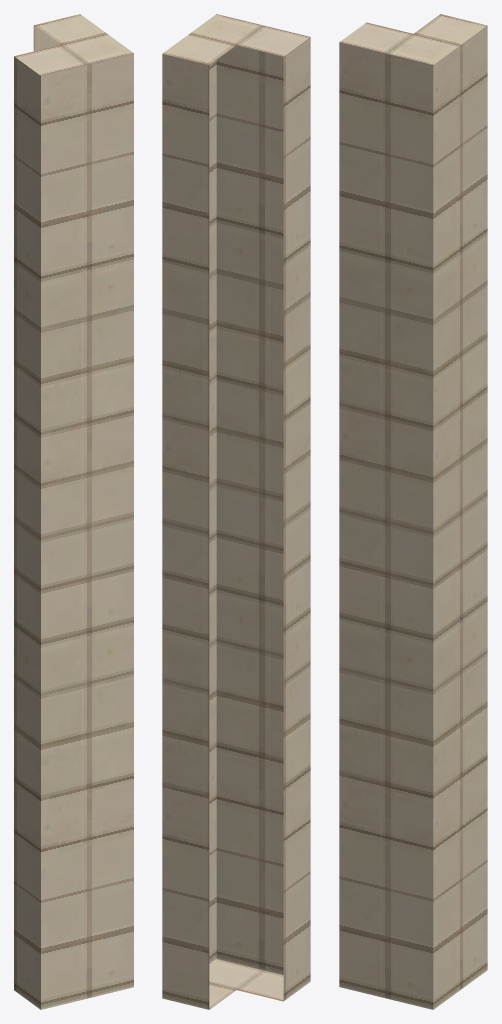
The model's file is pillar1_007.glb.
The picture shows the model from 3 angles, left to right: view 1: azimuth 30°, elevation 25°; view 2: azimuth 150°, elevation 25°; view 3: azimuth 330°, elevation 25°; orthographic projection.
Visible parts, largest first — view 1: pillar1.007; view 2: pillar1.007; view 3: pillar1.007.
Part boxes in pixels (<box>): pillar1.007: <box>14,14,133,1009</box>; pillar1.007: <box>162,14,310,1009</box>; pillar1.007: <box>339,14,487,1009</box>.
Bounding box in the file's own units: 0.25 × 2.4 × 0.25.
Materials: 1 (1 with a texture image).
